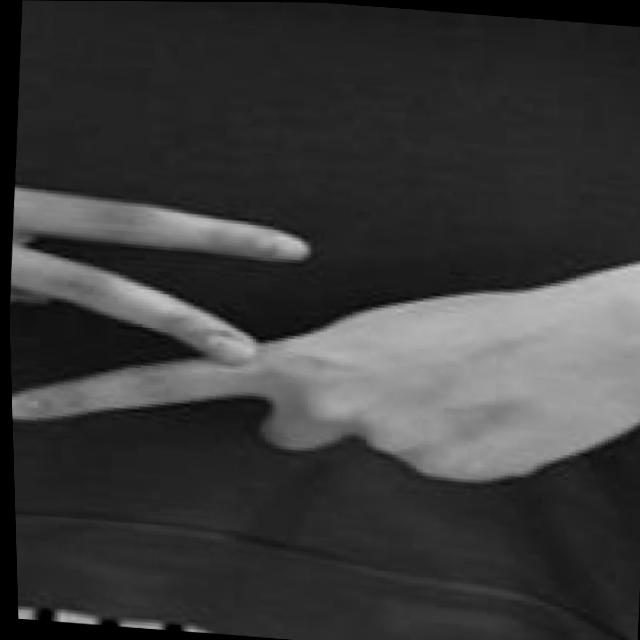Z: (5, 178, 640, 502)
